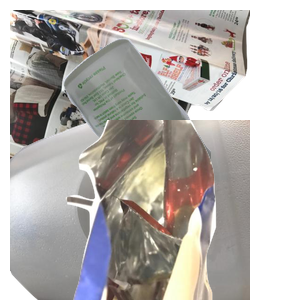glass: (60, 36, 300, 216)
paper: (10, 10, 250, 190)
plastic: (10, 120, 250, 300)
trash: (63, 120, 300, 300)
